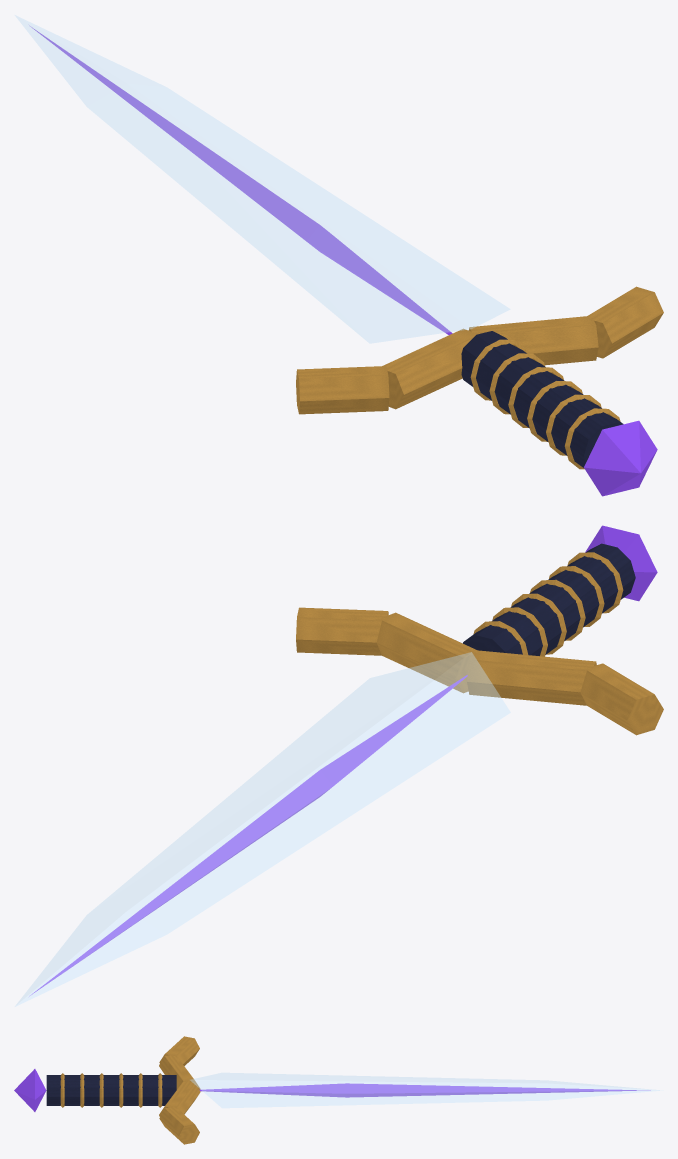
The model's file is blade.glb.
3 views of the same model, one above another, from view 1: azimuth 30°, elevation 25°; view 2: azimuth 150°, elevation 25°; view 3: azimuth 270°, elevation 25° (orthographic). The views are drawn at different scales.
Parts seen in each view (by area): view 1: blade; view 2: blade; view 3: blade.
Part boxes in pixels (x1,y1,x2,y2): blade: (15,15,663,496); blade: (15,525,663,1006); blade: (14,1036,659,1144).
Size of the model in its own units: 0.3351 by 0.0589 by 1.
1 material, 1 textured.
